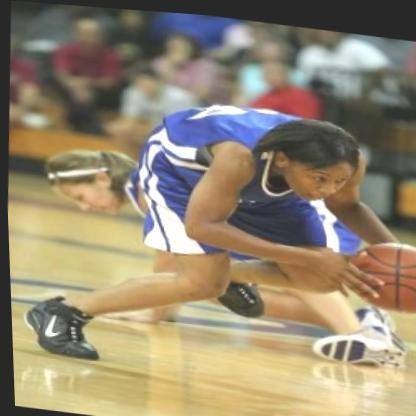basketball: (343, 230, 416, 309)
